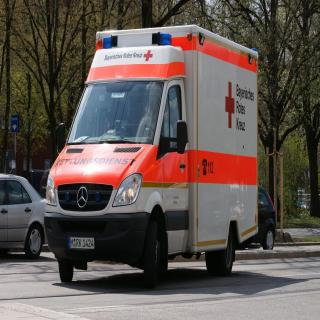Ambulance: (43, 18, 265, 285)
